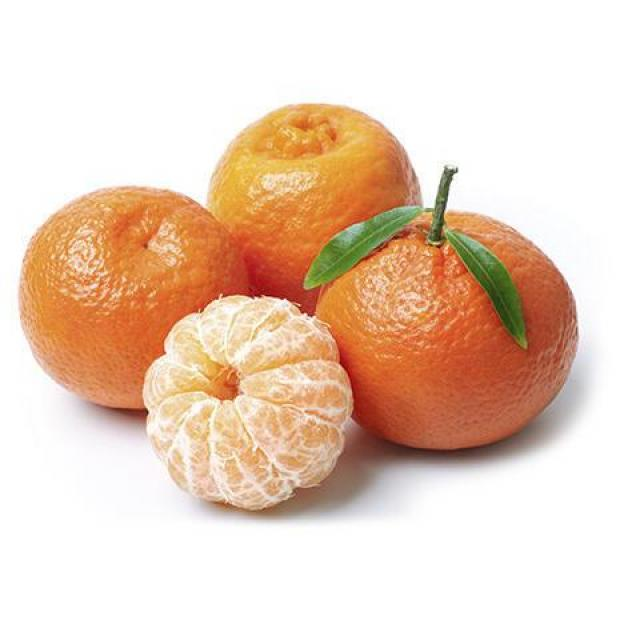10_tangerine: (317, 192, 588, 467), (35, 177, 262, 439), (140, 289, 358, 514), (209, 103, 425, 308)
